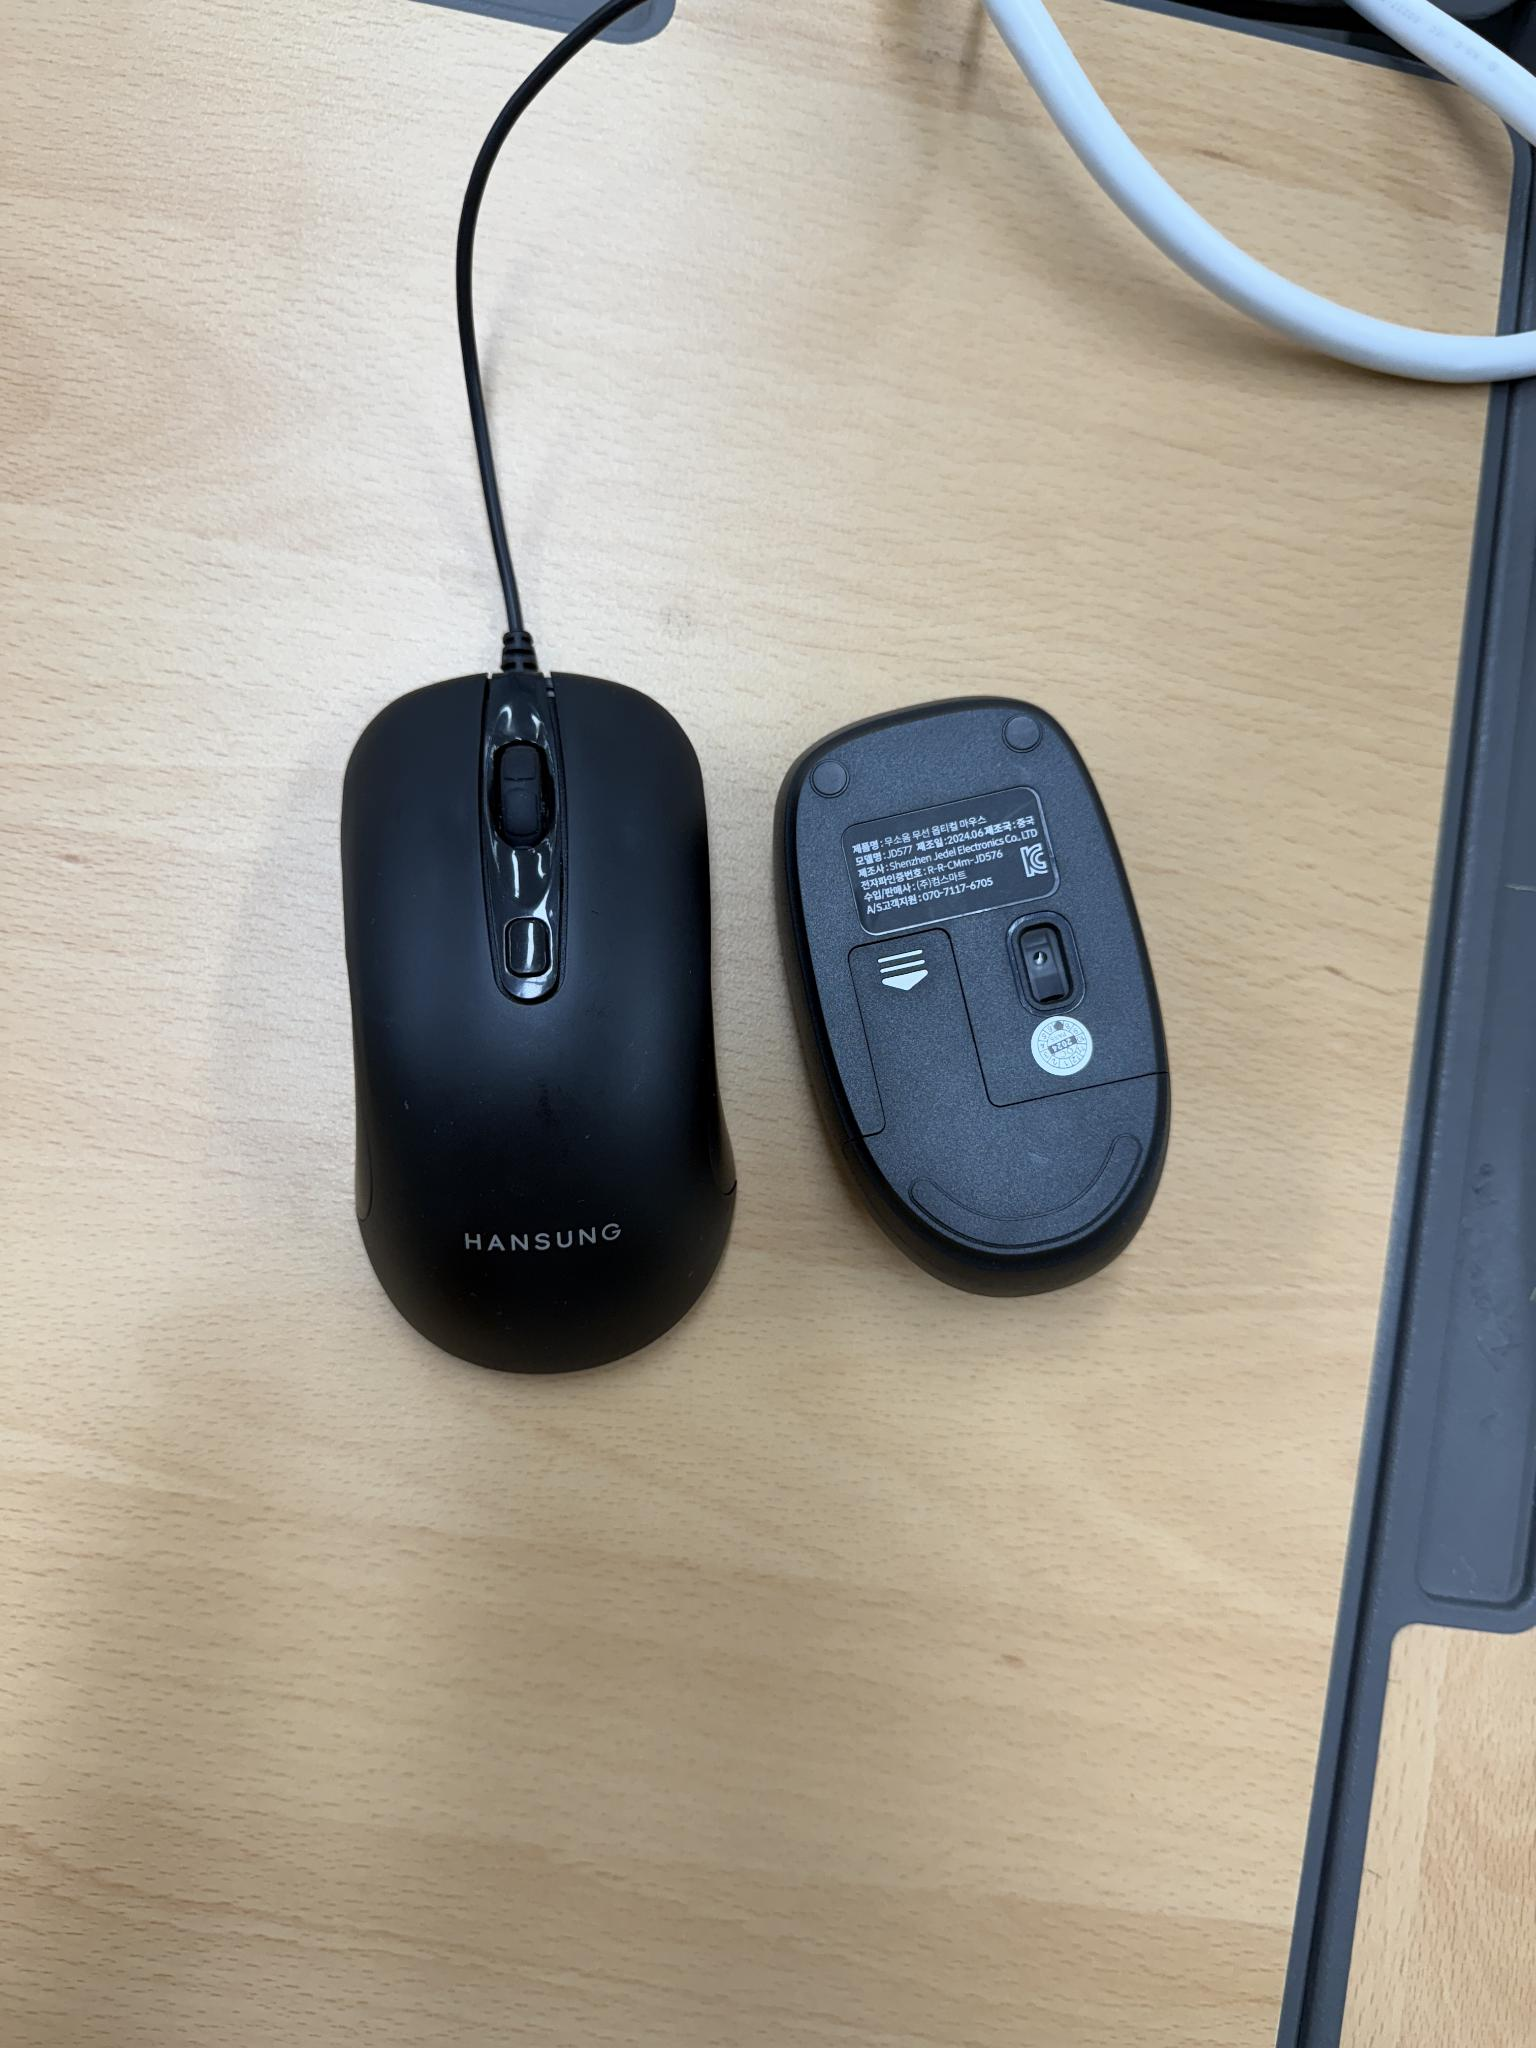back: (773, 690, 1186, 1298)
front: (336, 668, 742, 1379)
